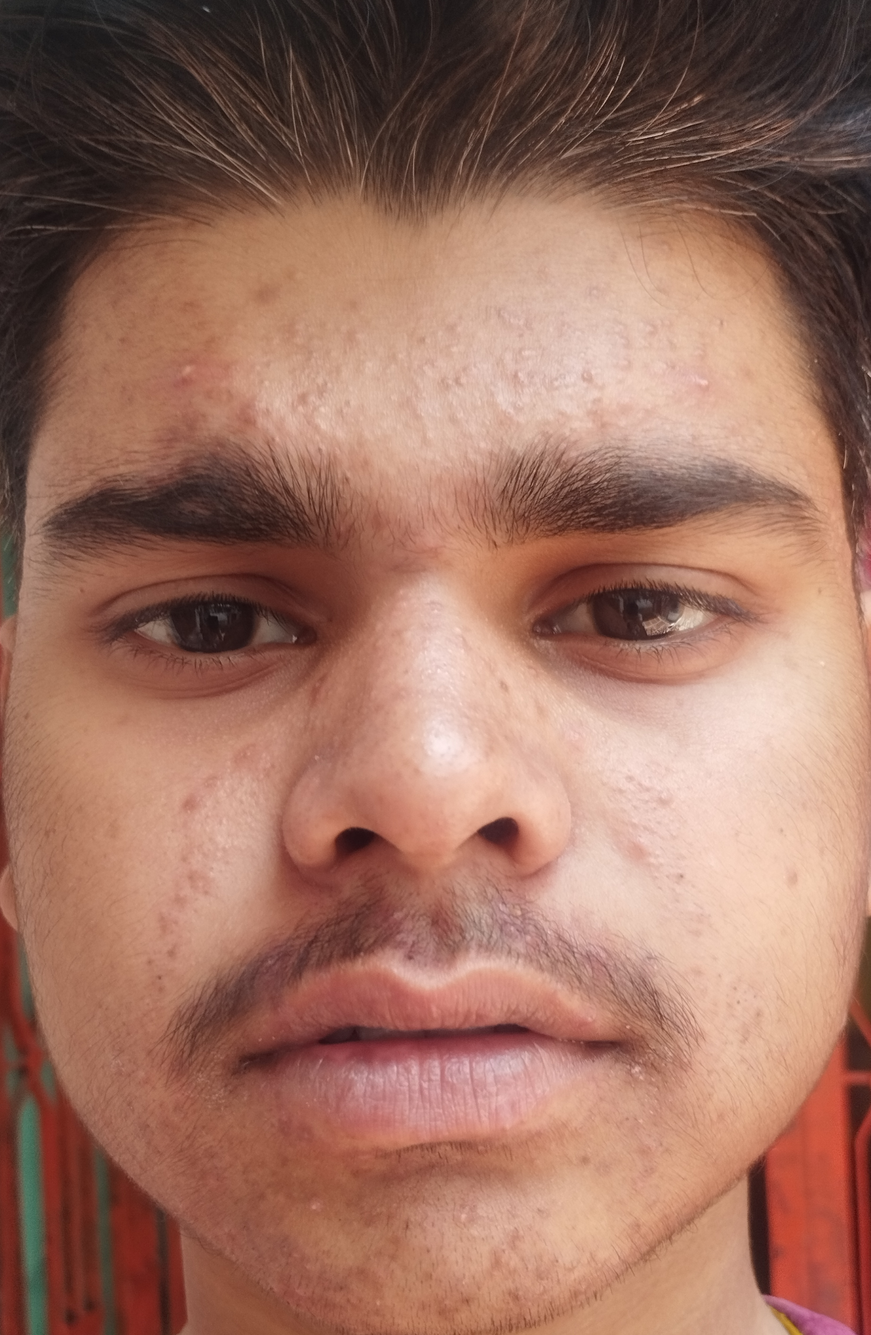closed_comedone: (608, 1033, 690, 1108), (489, 341, 575, 403), (329, 324, 382, 396), (272, 1179, 343, 1229), (169, 341, 226, 403), (413, 352, 464, 421)
papule: (152, 844, 225, 912), (613, 817, 692, 879), (159, 771, 221, 828)
